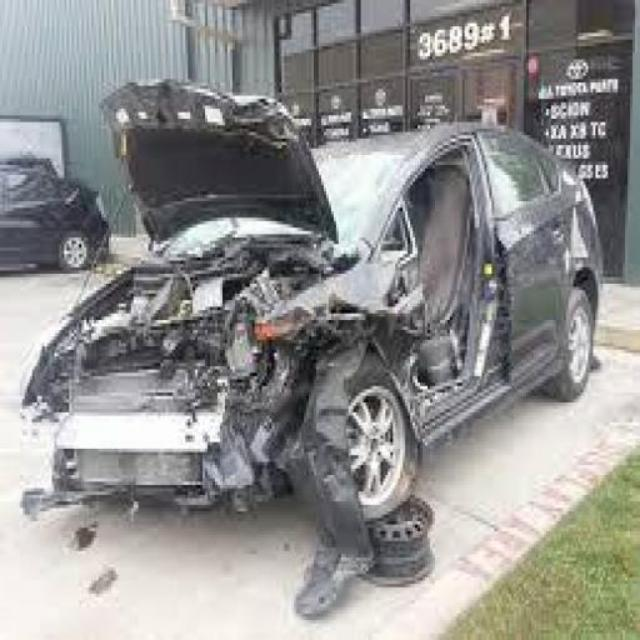crash: (19, 245, 479, 611)
